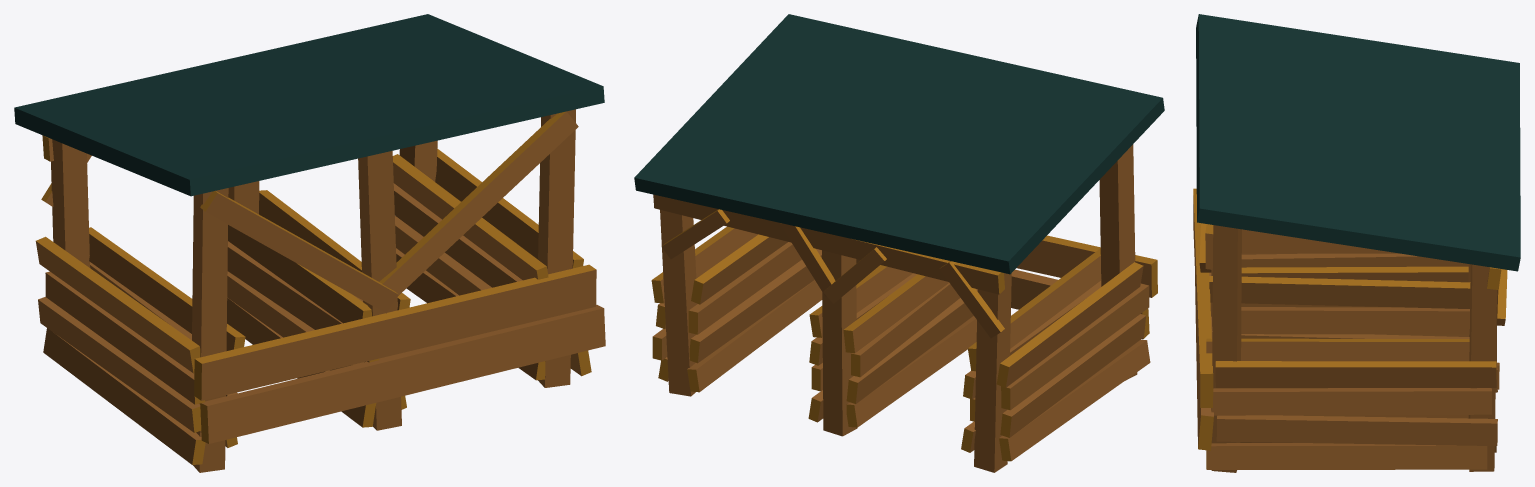
The model's file is estabulo_ferro.fbx.
3 views of the same model, side by side, from view 1: azimuth 30°, elevation 25°; view 2: azimuth 150°, elevation 25°; view 3: azimuth 270°, elevation 25° (orthographic). The views are drawn at different scales.
Parts seen in each view (by area): view 1: estabulo_ferro; view 2: estabulo_ferro; view 3: estabulo_ferro.
Boxes of the visible parts, left/top/right/bottom form: estabulo_ferro: left=14, top=14, right=605, bottom=472; estabulo_ferro: left=634, top=14, right=1164, bottom=472; estabulo_ferro: left=1193, top=14, right=1520, bottom=472.
Size of the model in its own units: 646 by 451 by 474.
